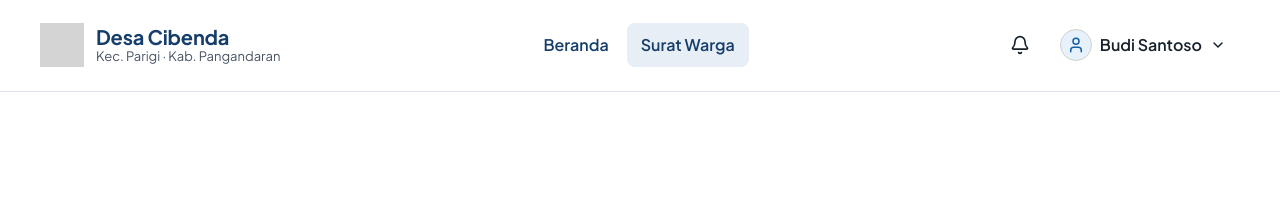
it: AppHeader › disables logout and shows progress while logging out
Click the button "Budi Santoso": (1143, 45) [1046,21,1240,69]
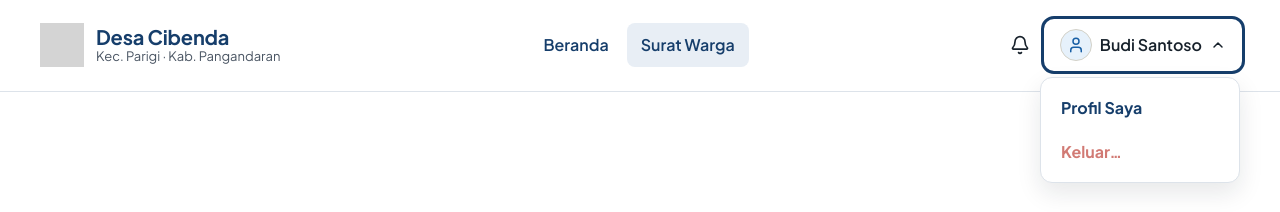
Now the button "Keluar…" is disabled, box [1049,130,1231,174]
